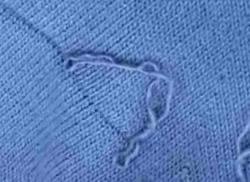snag: (56, 47, 120, 93)
